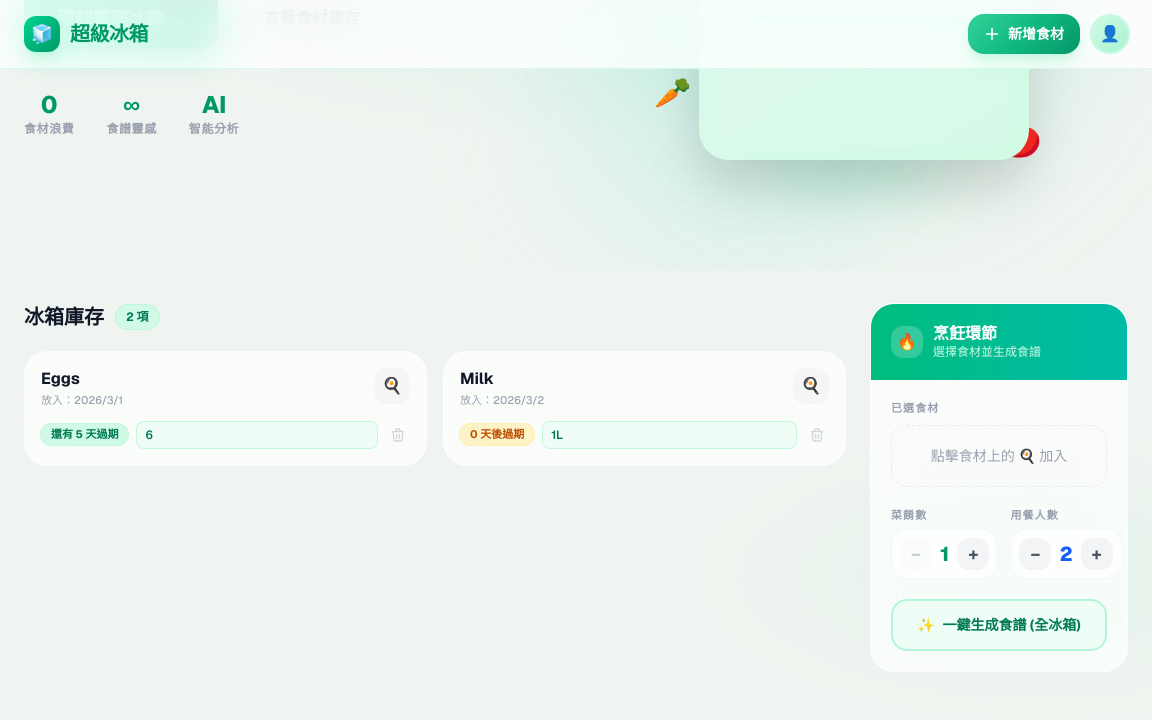
Scenario: Super Refrigerator - Core Features › 4. Inventory: Delete Item
(page scrolled)
What coordinates should you click on to do the following:
click the button named "刪除食材" in the row of "還有 5 天過期"
I would click on:
 (398, 434)
Its box is [386,422,410,446].
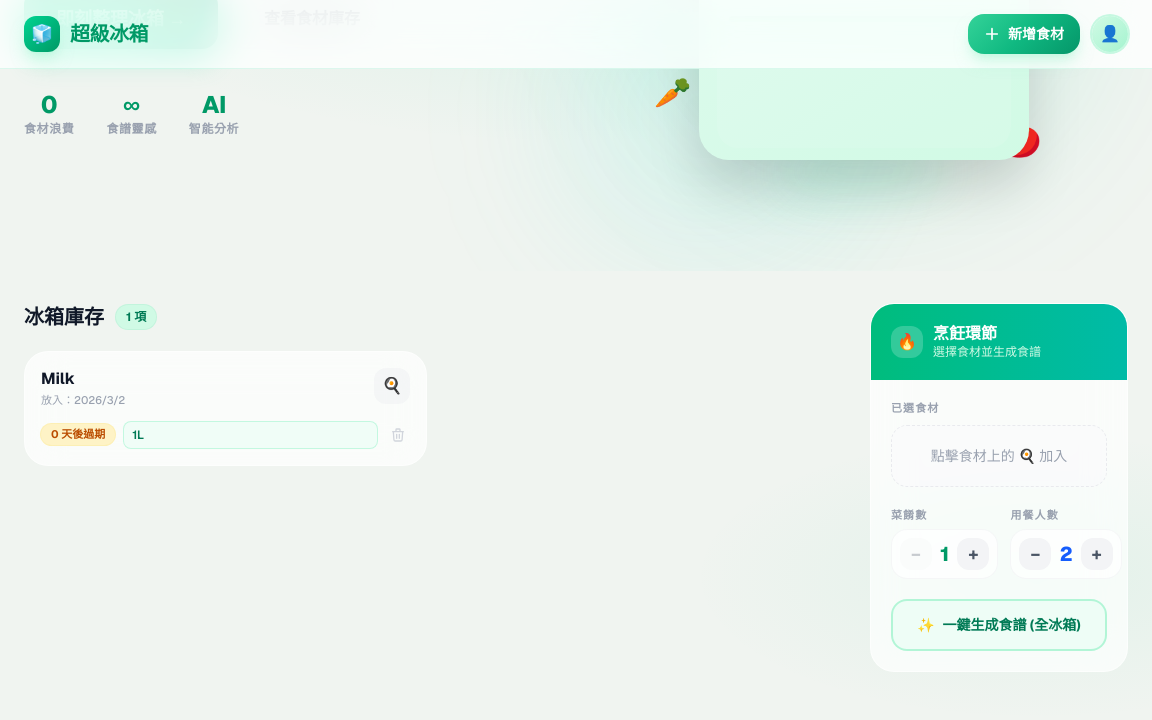
expect the heading "Eggs" is gone: met
